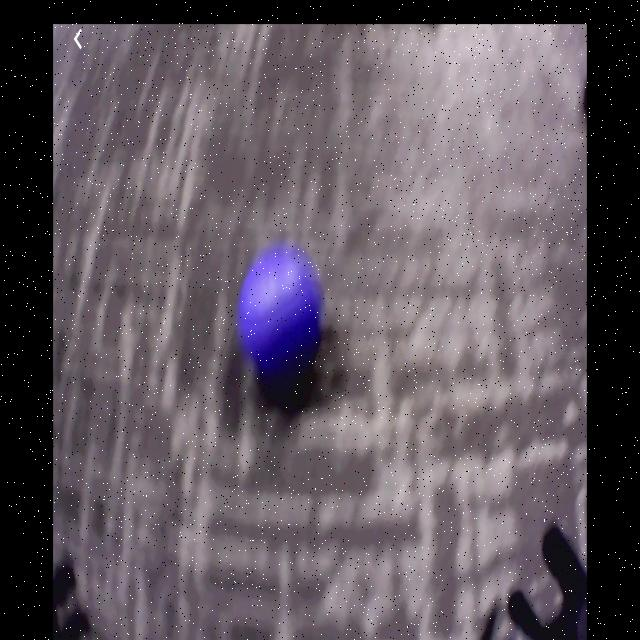ball: (241, 251, 320, 373)
